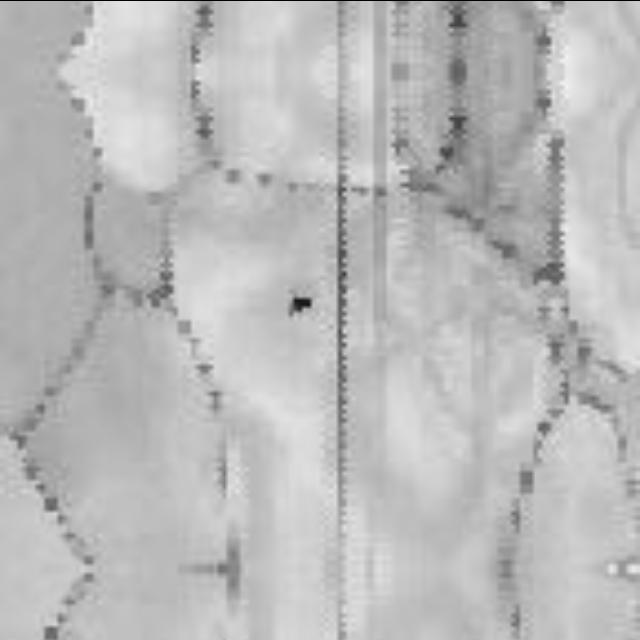good_void: (286, 290, 316, 318)
